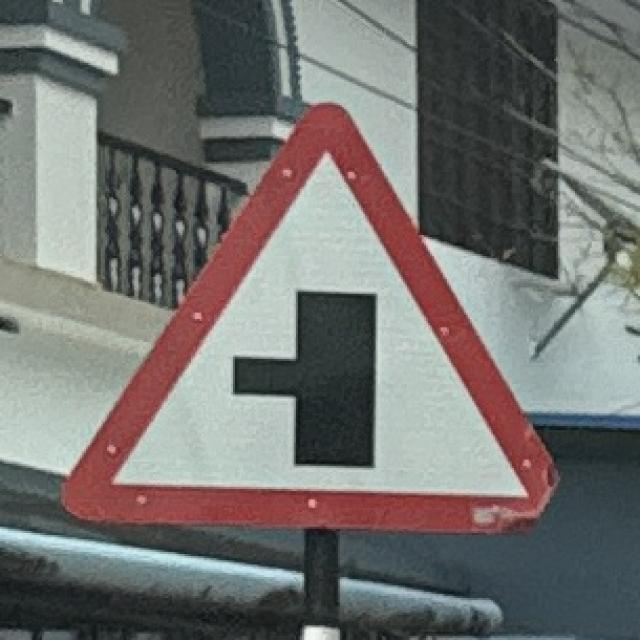SIDE_ROAD_LEFT: (51, 93, 560, 539)
